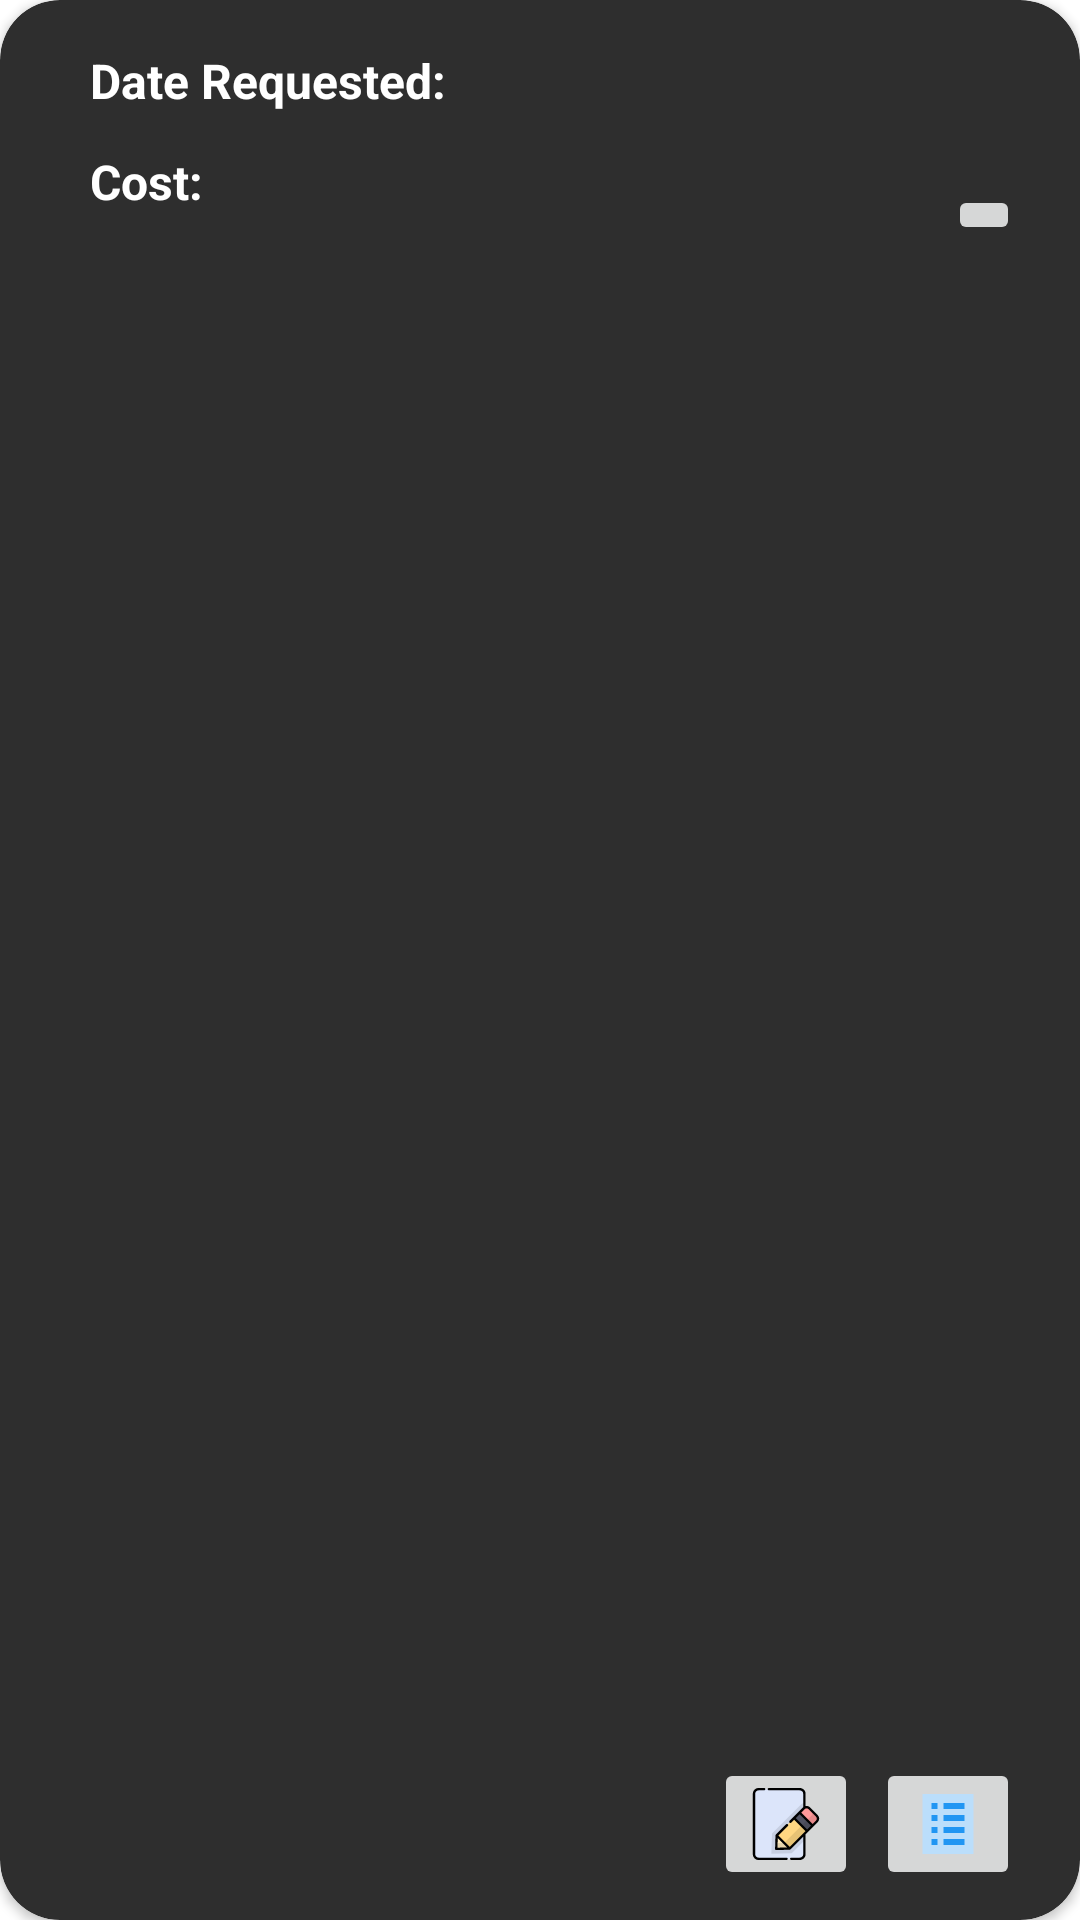

Named icons in this screenshot (1080 x 1920) and their bounding boxes, (x1, y1, x2, y2):
edit: (726, 1776, 846, 1872)
view details: (888, 1776, 1008, 1872)
